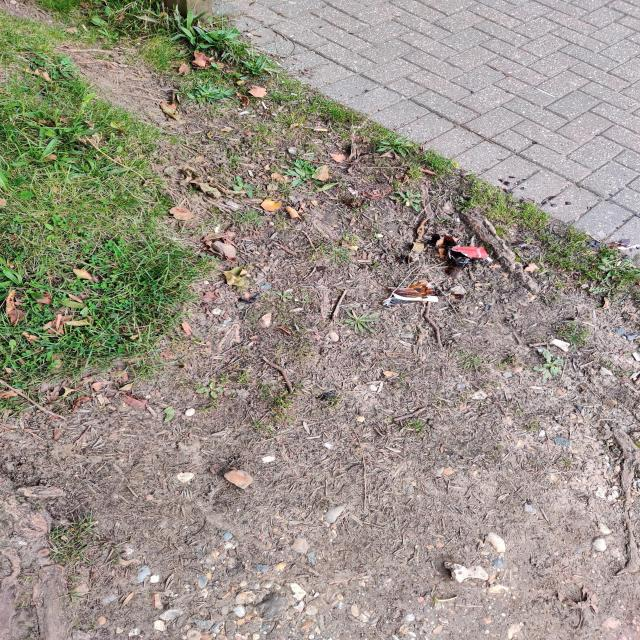litter: (393, 234, 493, 292)
